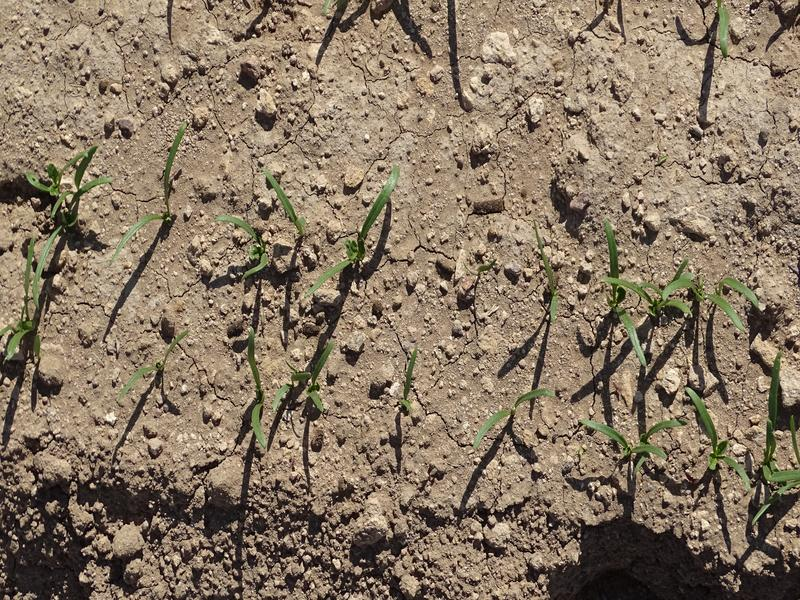Espinaca: (599, 227, 758, 372), (686, 394, 800, 517), (301, 171, 400, 299), (112, 120, 189, 259), (1, 225, 69, 352), (33, 144, 109, 222), (110, 327, 189, 398), (578, 415, 681, 462), (279, 334, 339, 409), (476, 389, 554, 444), (242, 330, 270, 447), (216, 215, 272, 273), (533, 224, 562, 323), (274, 168, 303, 225), (397, 348, 423, 409), (715, 6, 740, 65)
